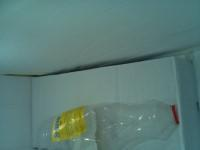bottle: (33, 99, 180, 150)
